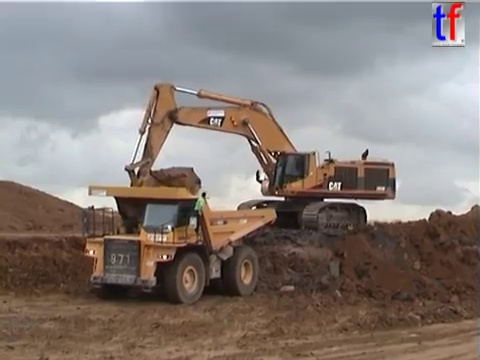excavator: (122, 80, 399, 238)
truck: (80, 183, 278, 306)
worker: (191, 190, 210, 234)
